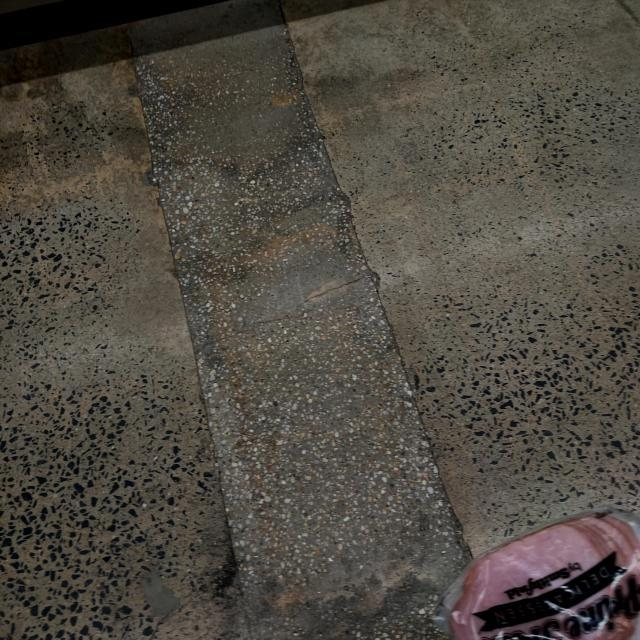Meat: (401, 518, 640, 640)
